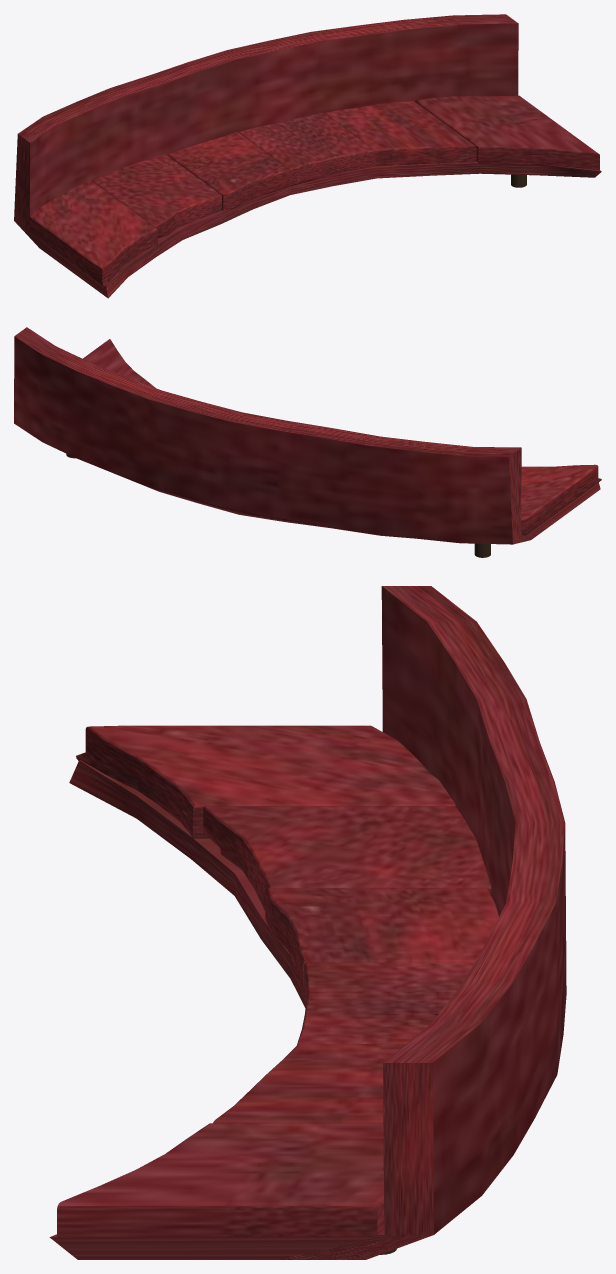
File: sillonrojo.obj
The picture shows the model from 3 angles, top to bottom: view 1: azimuth 30°, elevation 25°; view 2: azimuth 150°, elevation 25°; view 3: azimuth 270°, elevation 25°; orthographic projection. The views are drawn at different scales.
Visible parts, largest first — view 1: pasted__pCylinder1; view 2: pasted__pCylinder1; view 3: pasted__pCylinder1.
Part boxes in pixels (x1,y1,x2,y2): pasted__pCylinder1: (14,14,601,298); pasted__pCylinder1: (14,327,601,557); pasted__pCylinder1: (49,586,566,1259).
Size of the model in its own units: 1547 by 346 by 703.
Materials: 11 (7 with a texture image).
